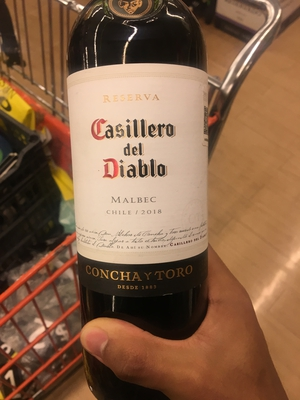casillero del diablo malbec: (59, 12, 229, 363)
